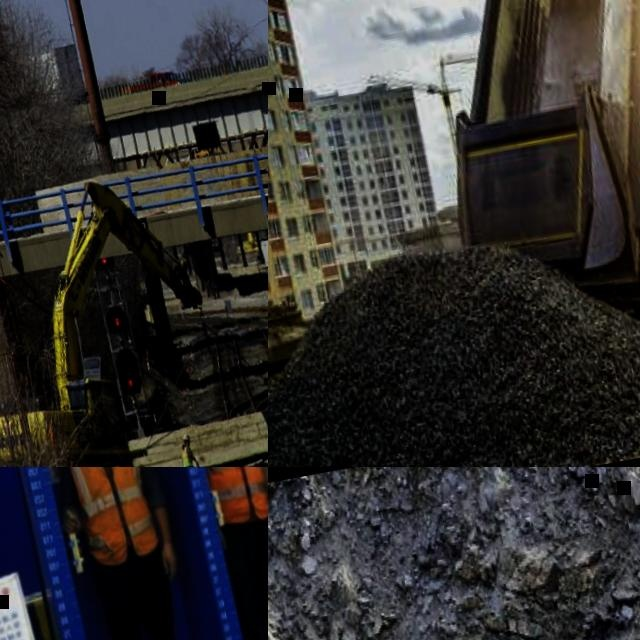Hardhat: (181, 433, 189, 440)
Person: (28, 467, 207, 640), (174, 467, 268, 640), (175, 431, 206, 467)
Safety Vest: (54, 467, 159, 571), (188, 467, 268, 527), (176, 443, 191, 467)
machinery: (380, 0, 640, 371), (0, 162, 235, 467)
vehicle: (16, 39, 87, 111), (118, 66, 189, 97), (255, 235, 268, 274)
